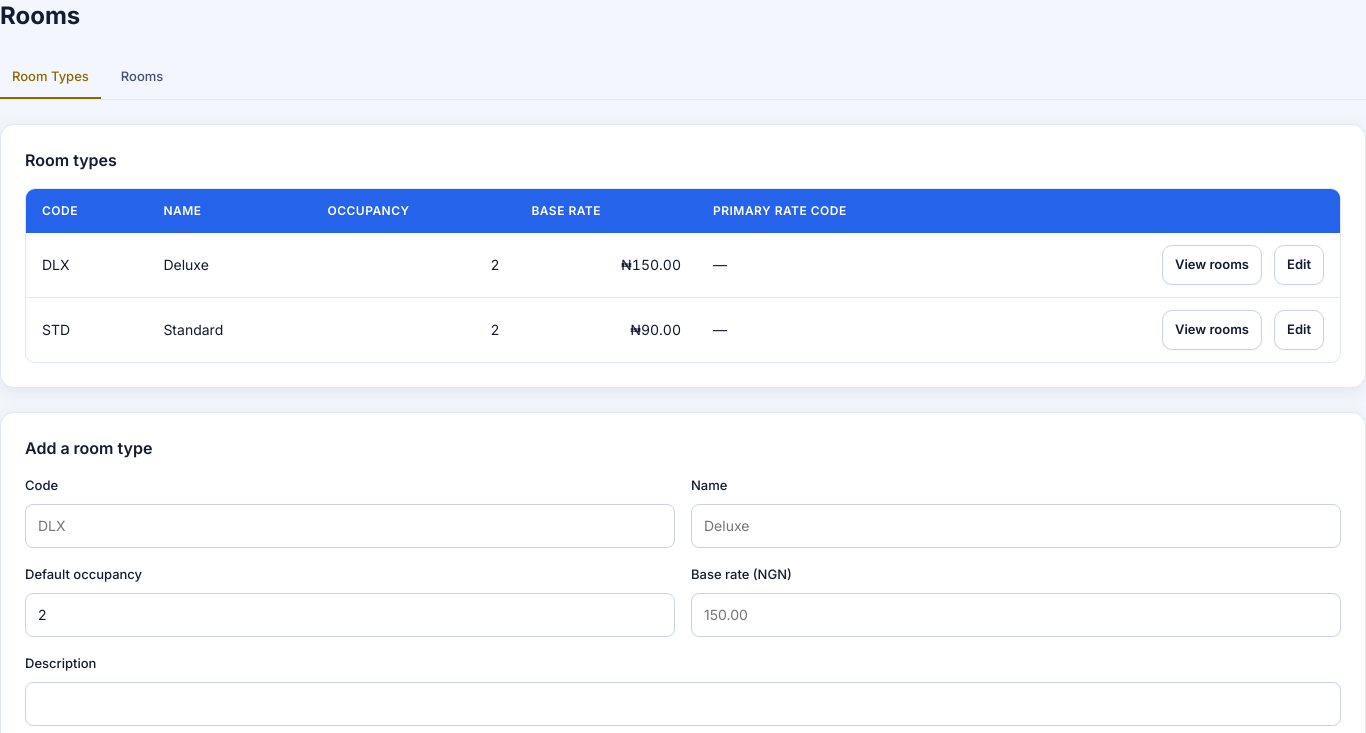
Test: <RoomsScreen> › after moving rooms to a type, "View <type> rooms" narrows the list to that type
Click the tab "Rooms": point(142, 77) x1=109 y1=55 x2=175 y2=99
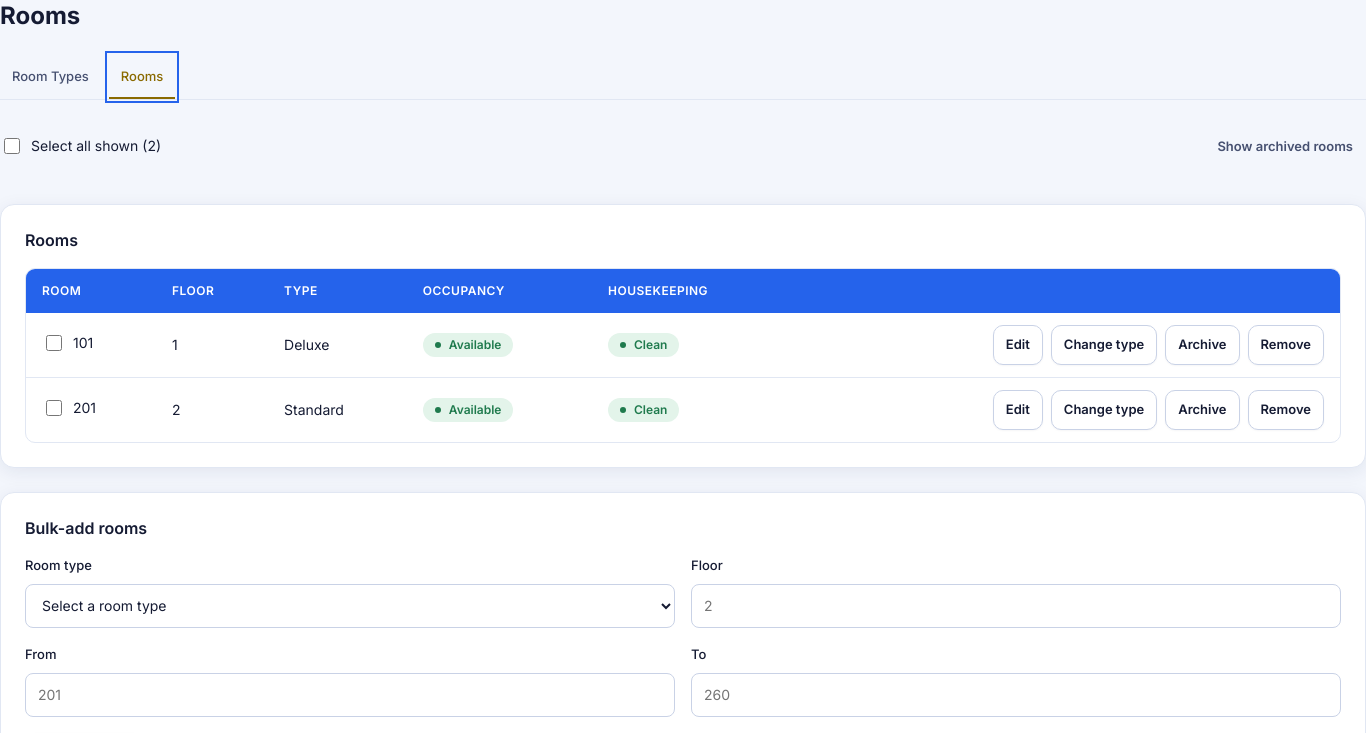
Expected: the text "101" is shown, x1=42 y1=332 x2=93 y2=354
Expected: the text "201" is shown, x1=42 y1=397 x2=96 y2=419
Click the button "Change type" in the row of "101": point(1104, 345) x1=1051 y1=325 x2=1157 y2=365
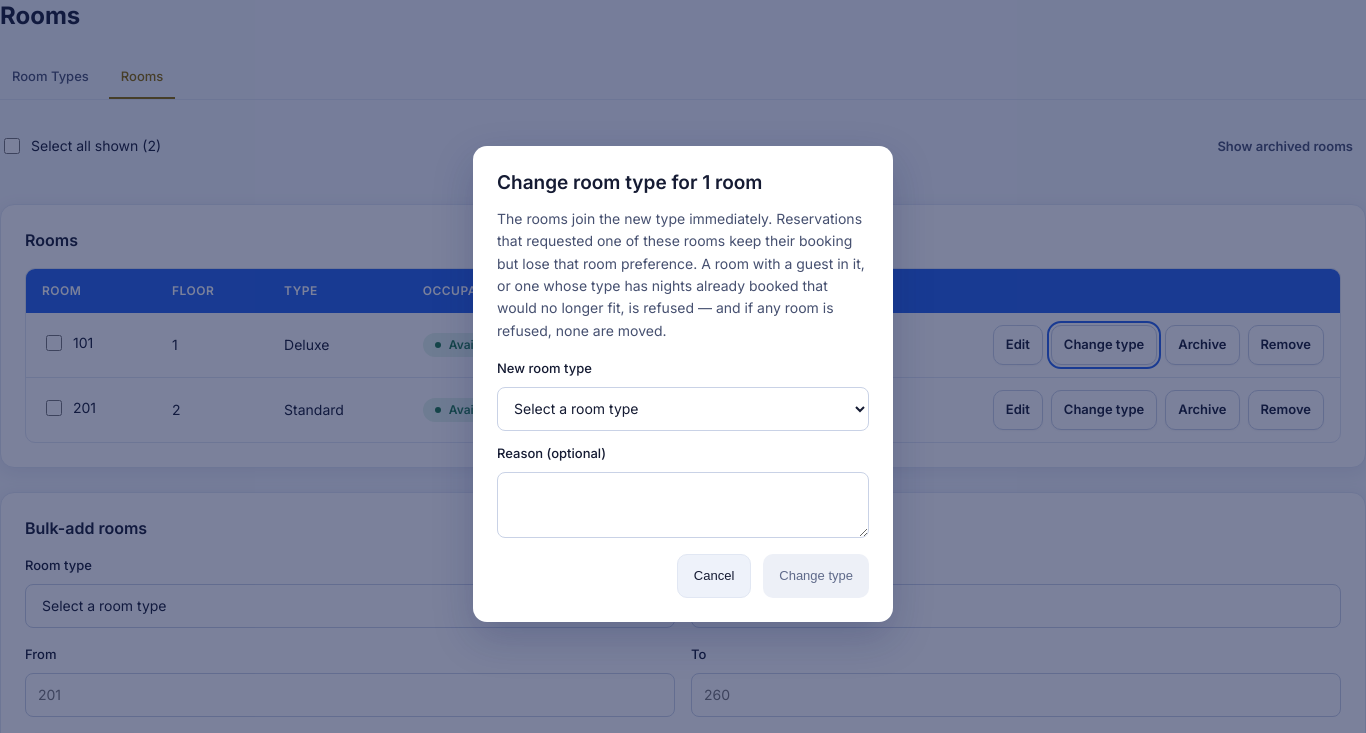
Select "Standard (STD)" in the dropdown labelled "New room type": point(683, 409) x1=497 y1=387 x2=869 y2=431
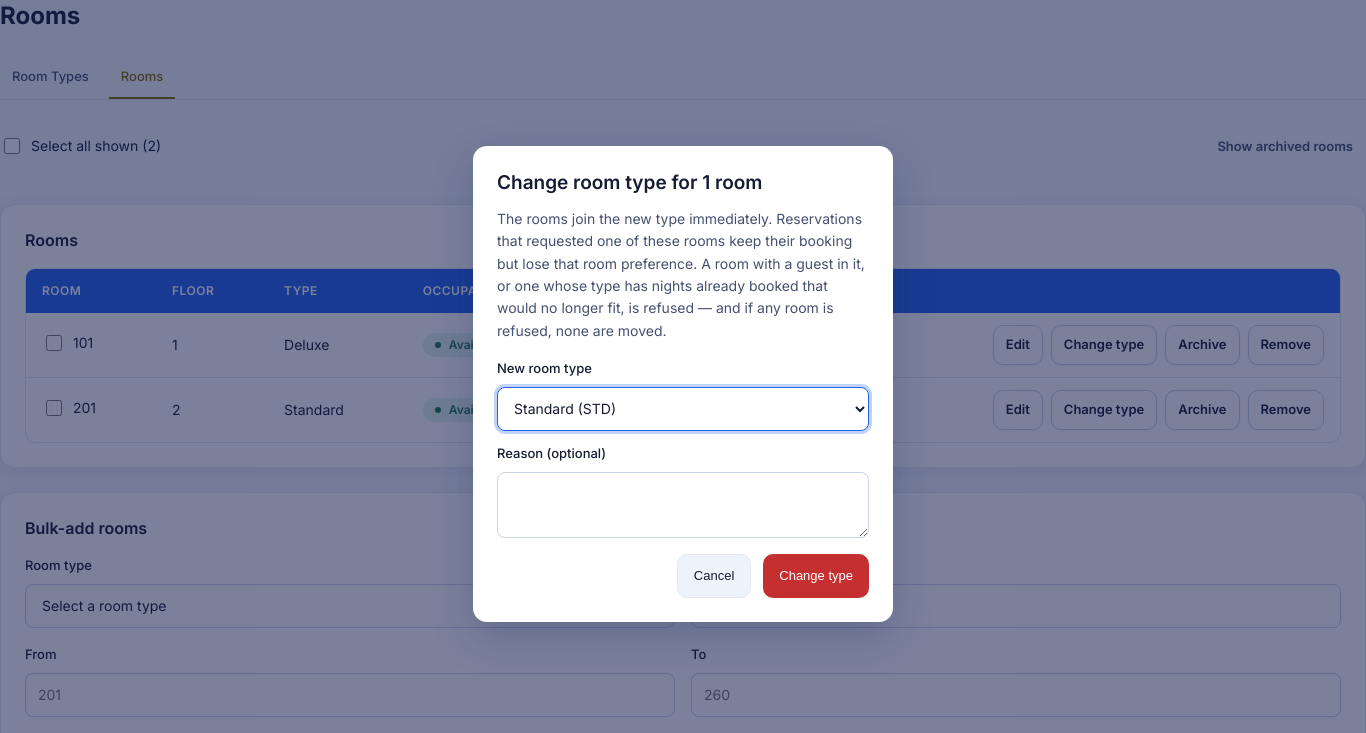
Click the button "Change type": point(816, 576) x1=763 y1=554 x2=869 y2=598
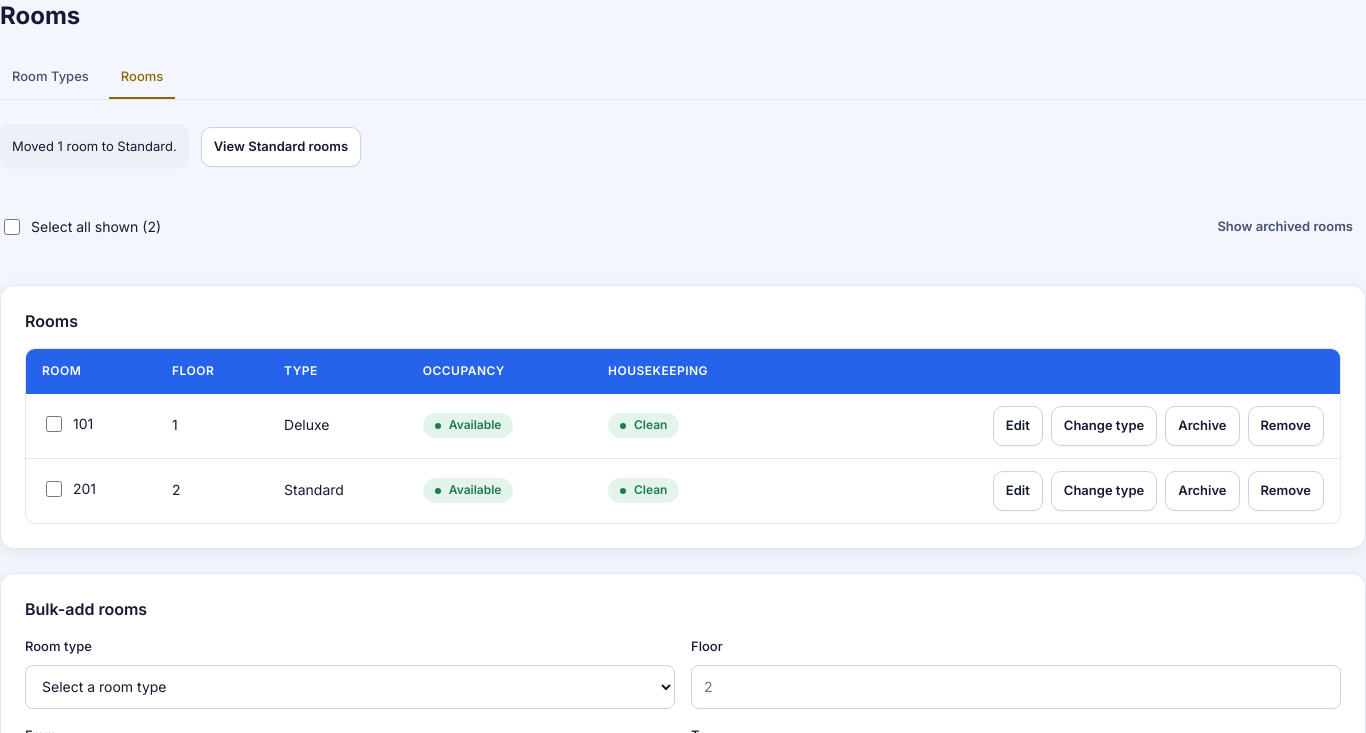
Click the button "View Standard rooms": point(281, 147) x1=201 y1=127 x2=361 y2=167
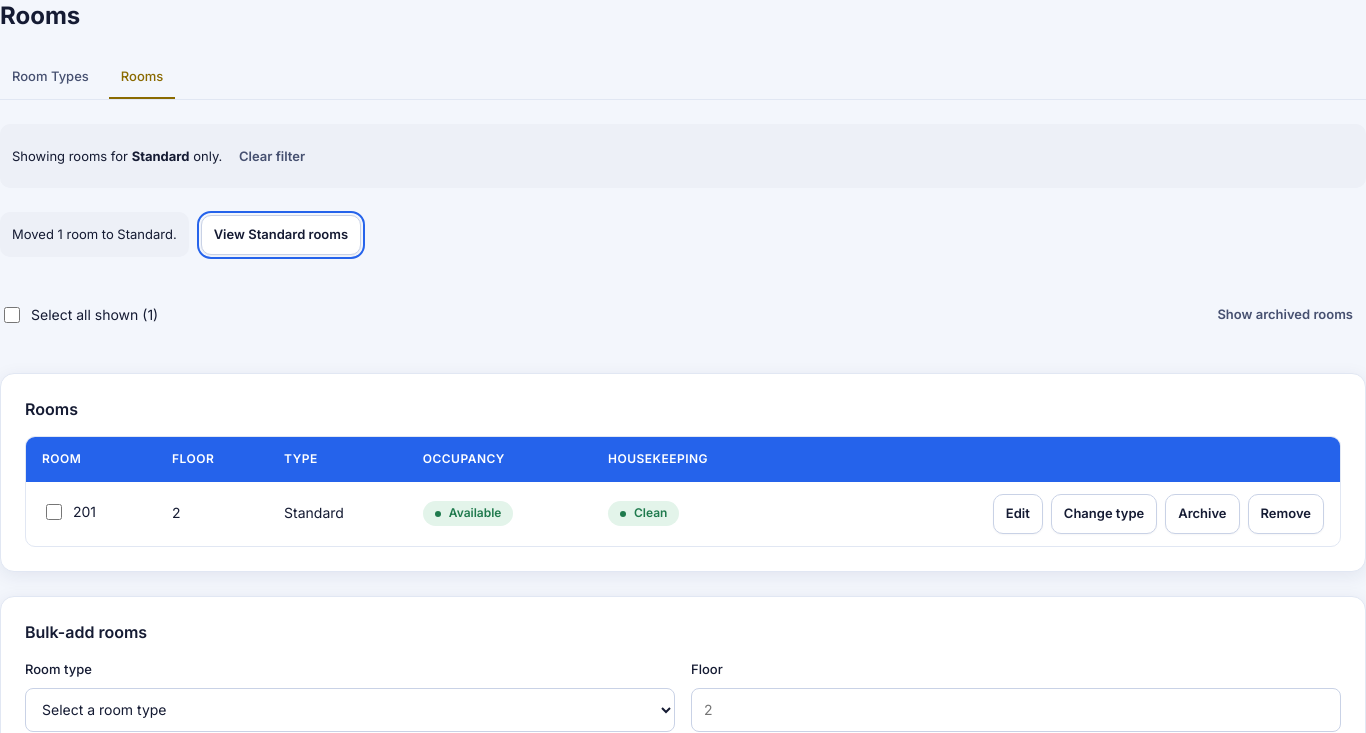
Expected: the text "201" is shown, x1=42 y1=501 x2=96 y2=523
Expected: the text "Showing rooms for Standard only. Clear filter" is shown, x1=0 y1=124 x2=1365 y2=188
Expected: the text "101" is gone
